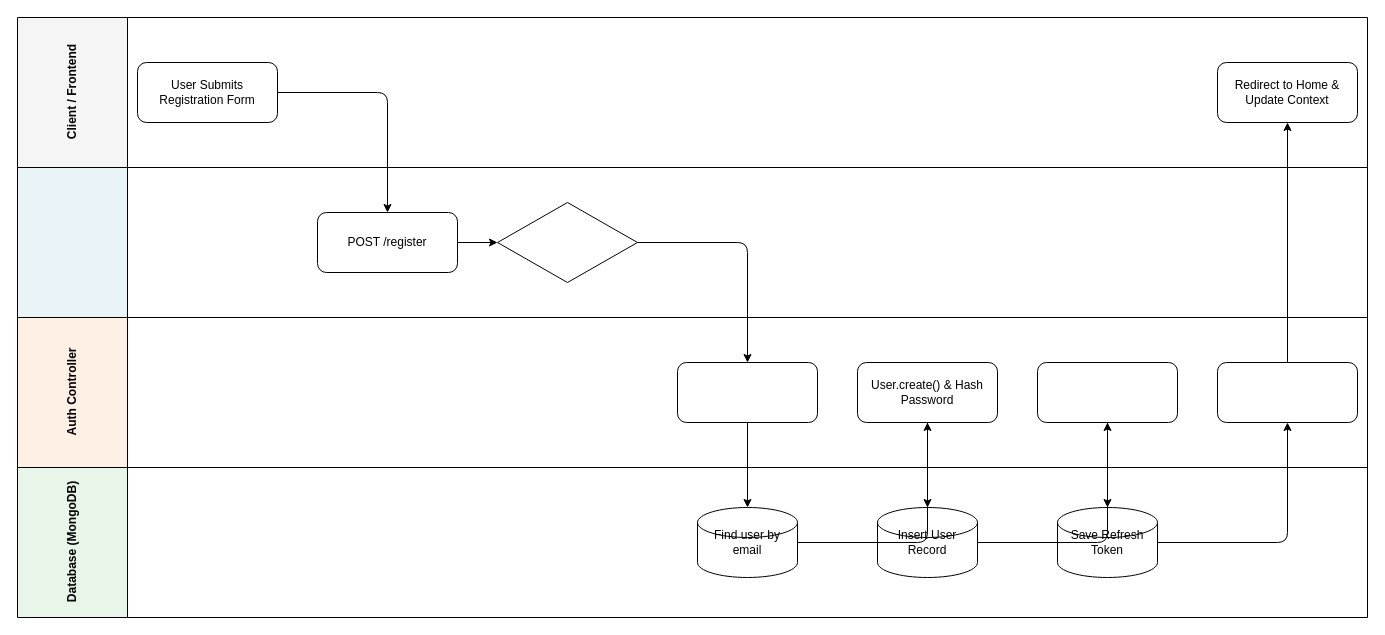
Some shapes in this 1385 by 635 pixel diagram are drawn without their labels. The shapes that lost their labels are listed below. From the top down, each one's box as (x1, y1, x2, y2) in pixels, then its label:
(496, 202, 638, 282): Zod validation (registerSchema)
(16, 166, 1368, 318): Router & Middleware
(676, 362, 818, 422): Check existing user: User.findOne({ email })
(1036, 362, 1178, 422): generateAccessAndRefreshTokens()
(1216, 362, 1358, 422): HTTP 201 Created & Set Cookies
